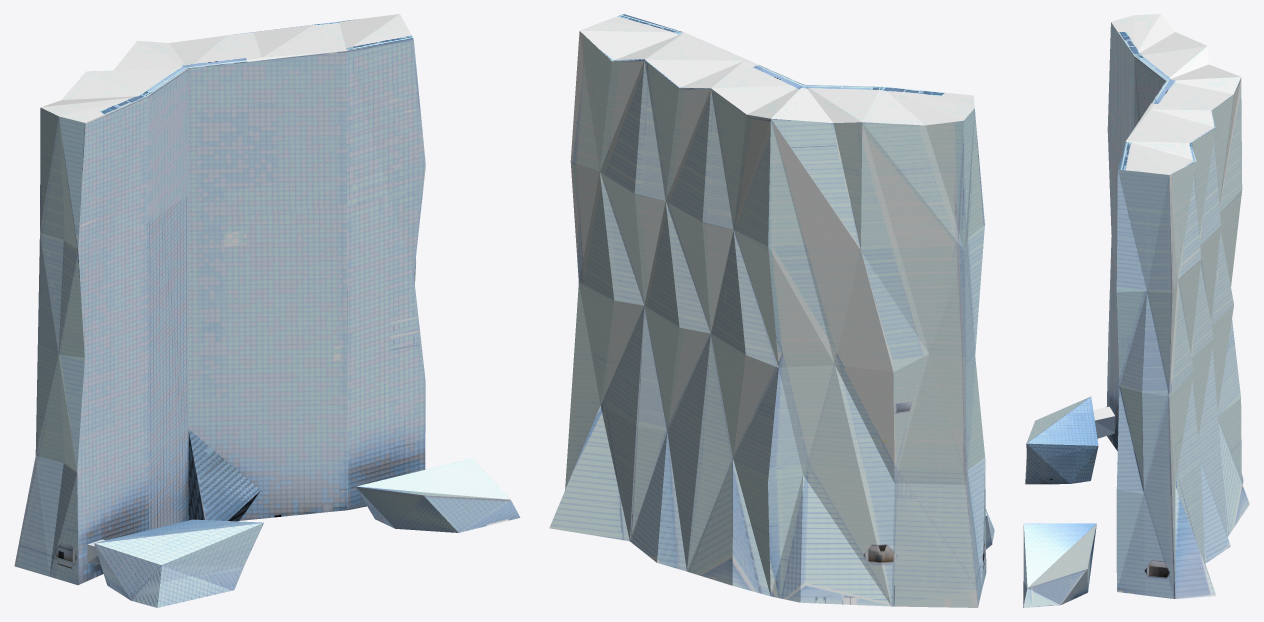
The model's file is 109_baked_new.glb.
3 renders of one model, left to right at view 1: azimuth 30°, elevation 25°; view 2: azimuth 150°, elevation 25°; view 3: azimuth 270°, elevation 25°, orthographic. The views are drawn at different scales.
Visible parts, largest first — view 1: 109.001; view 2: 109.001; view 3: 109.001.
Part boxes in pixels (left/top/right/bottom): 109.001: left=14, top=14, right=520, bottom=607; 109.001: left=549, top=14, right=994, bottom=607; 109.001: left=1023, top=14, right=1249, bottom=607.
Size of the model in its own units: 134 by 140 by 67.89.
1 material, 1 textured.
